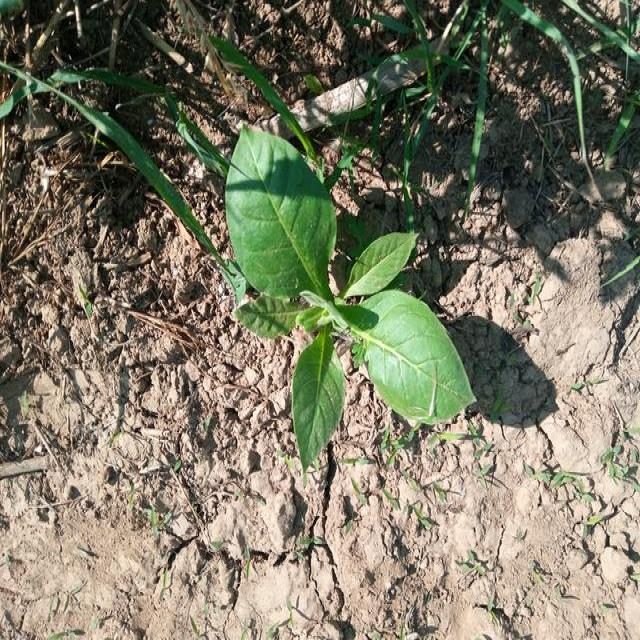crop: (229, 140, 466, 462)
